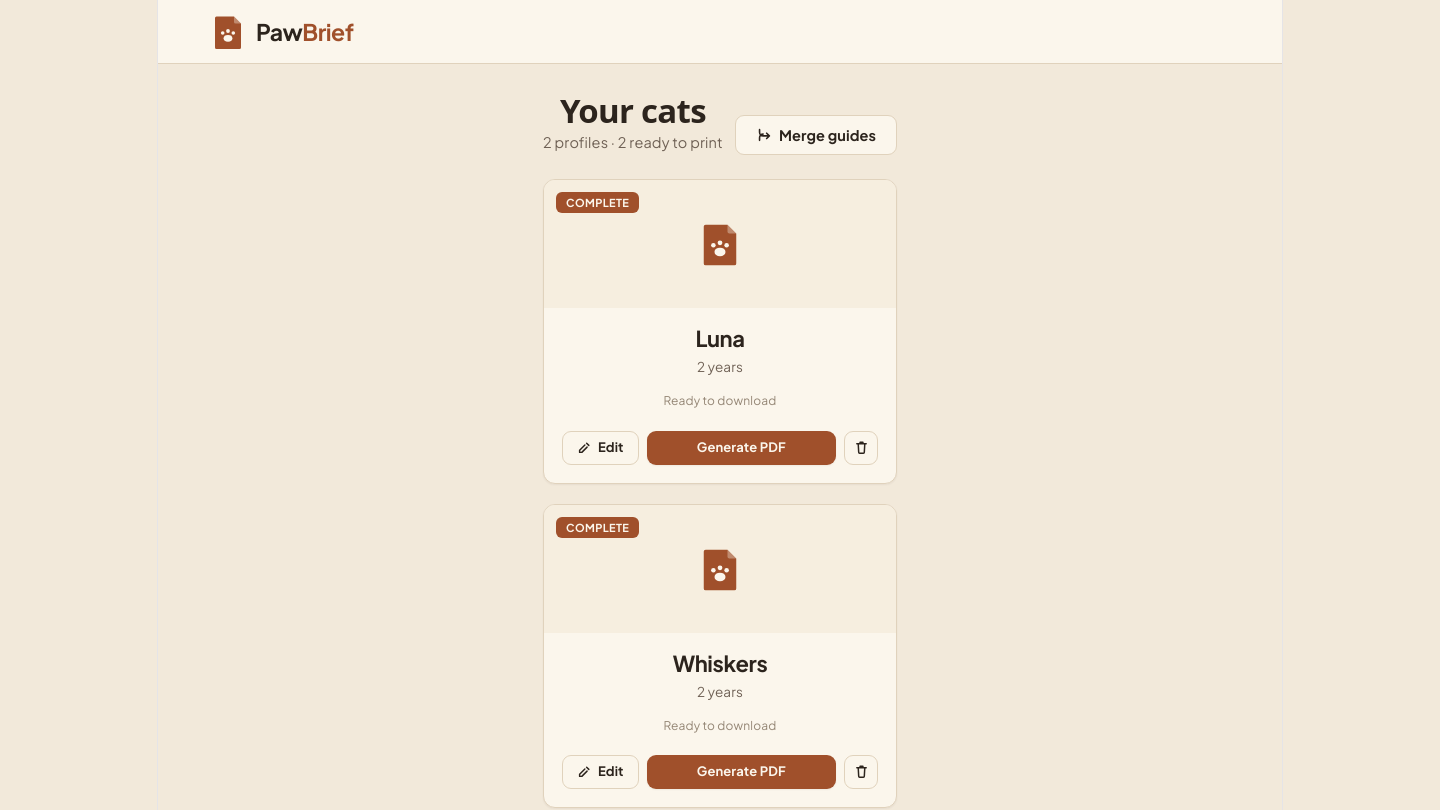
Test: DashboardPage merge mode › selecting two complete profiles enables 'Create merged guide'
Click the button "Merge guides": x=816, y=135 x1=735 y1=115 x2=897 y2=155
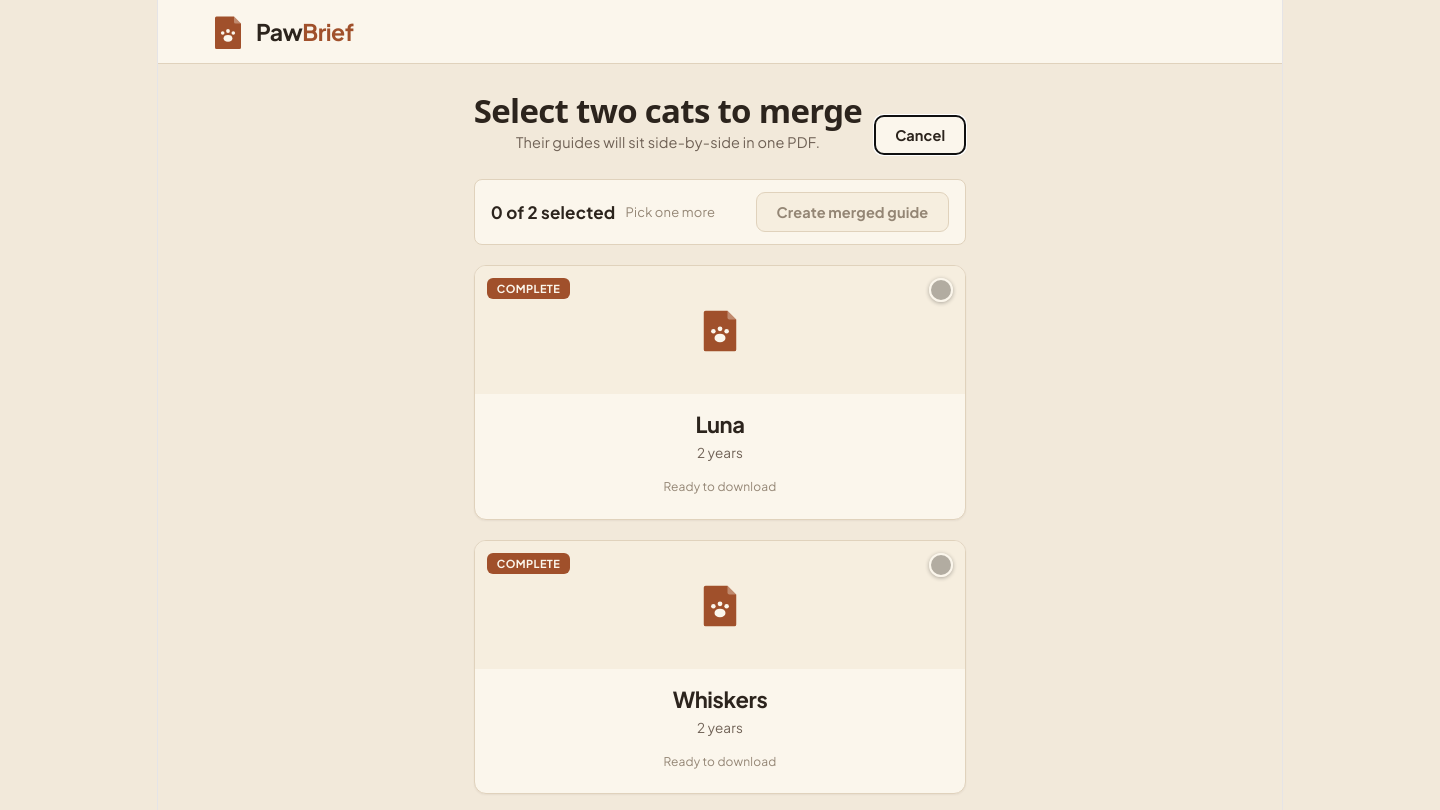
Click the checkbox named "Luna": x=941, y=290 x1=929 y1=278 x2=953 y2=302
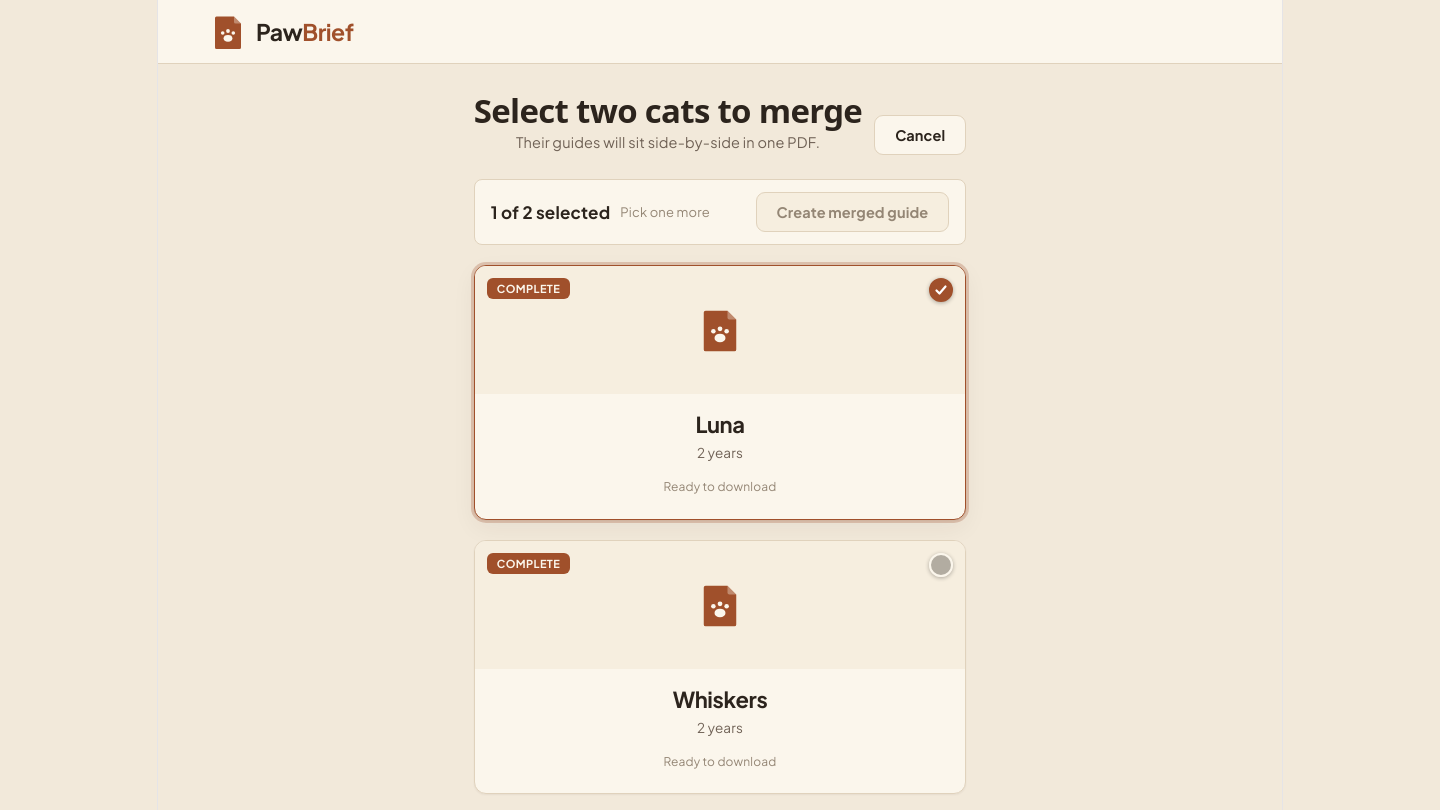
Click the checkbox named "Whiskers": x=941, y=565 x1=929 y1=553 x2=953 y2=577
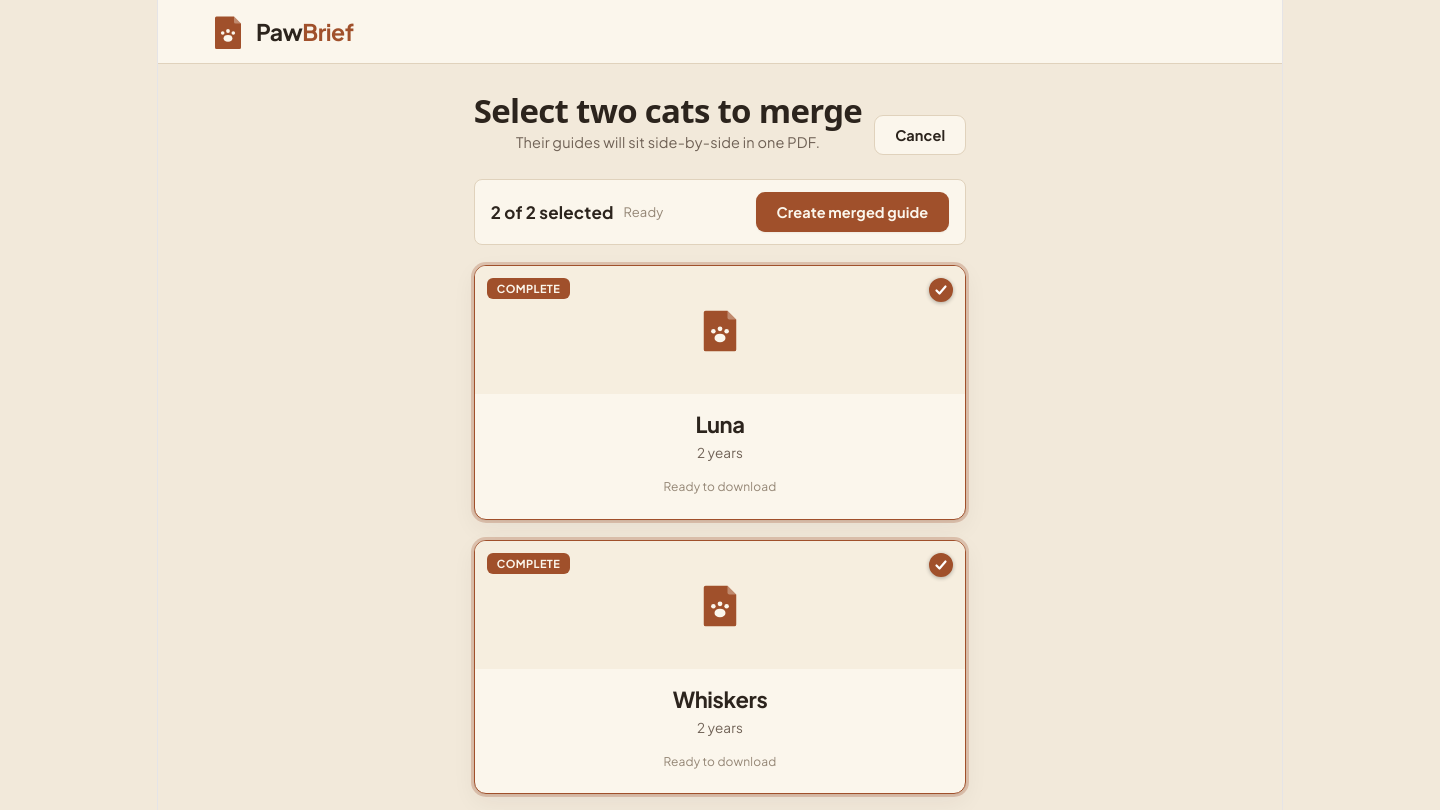
Check: the button "Create merged guide" is enabled, box x1=756 y1=192 x2=949 y2=232
